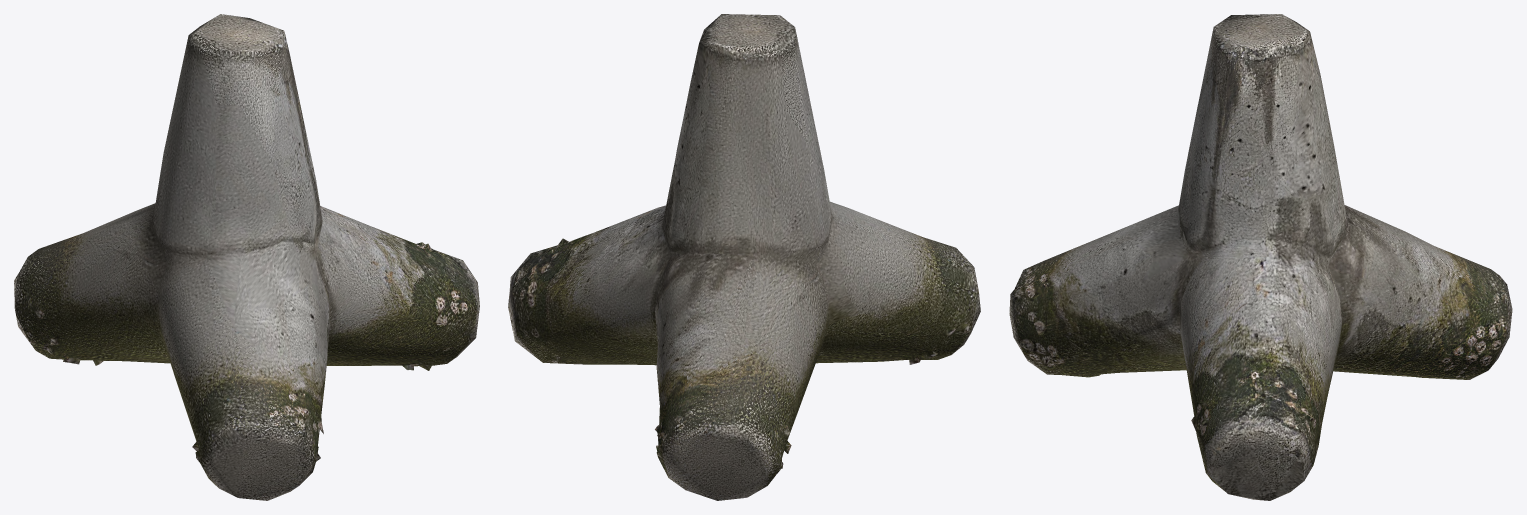
File: teluk-tetrapod.glb
The picture shows the model from 3 angles, left to right: view 1: azimuth 30°, elevation 25°; view 2: azimuth 150°, elevation 25°; view 3: azimuth 270°, elevation 25°; orthographic projection.
Parts seen in each view (by area): view 1: teluk-tetrapod; view 2: teluk-tetrapod; view 3: teluk-tetrapod.
Part boxes in pixels (x1,y1,x2,y2): teluk-tetrapod: (14,14,479,500); teluk-tetrapod: (508,14,980,500); teluk-tetrapod: (1009,14,1512,500).
Bounding box in the file's own units: 3.96 × 4 × 4.8.
Materials: 1 (1 with a texture image).
